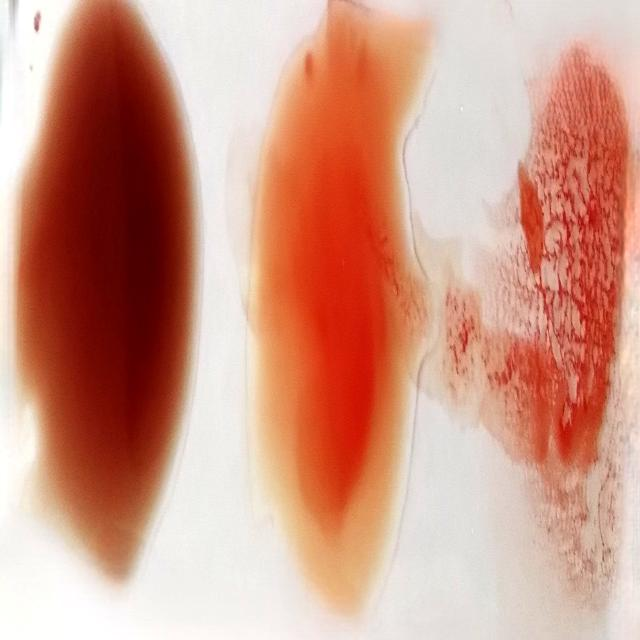D: (516, 60, 640, 574)
